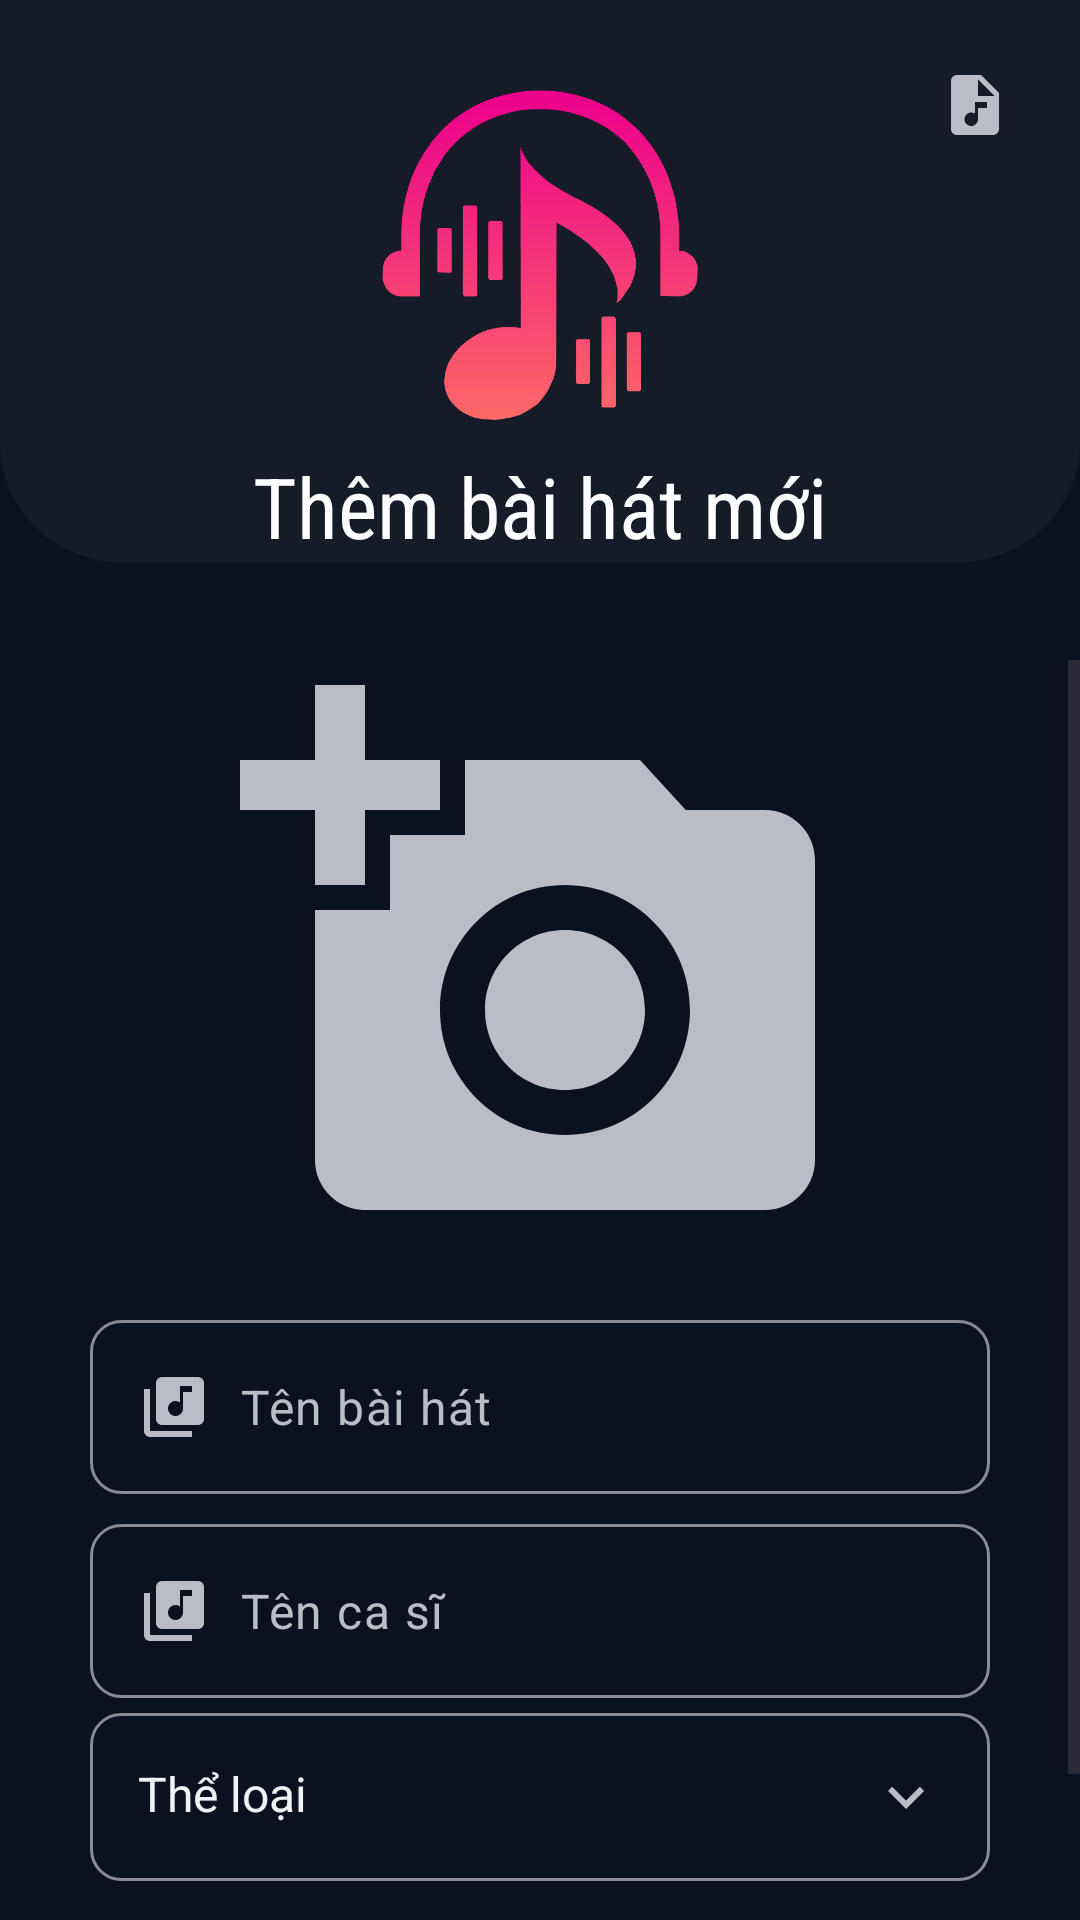

Named icons in this screenshot (1080w x 1920h) and their bounding boxes, (x1, y1, x2, y2):
audio file: (951, 75, 999, 135)
